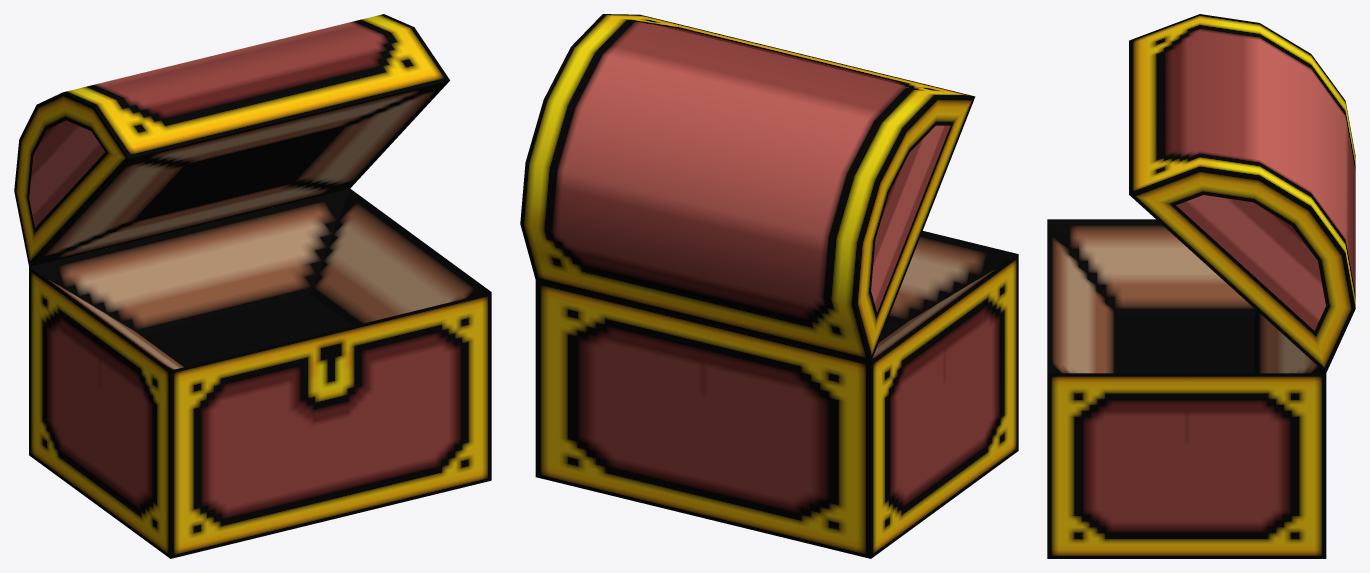
Rendered from deco_chestSmall_open.FBX.
The picture shows the model from 3 angles, left to right: view 1: azimuth 30°, elevation 25°; view 2: azimuth 150°, elevation 25°; view 3: azimuth 270°, elevation 25°; orthographic projection. The views are drawn at different scales.
Visible parts, largest first — view 1: deco_chestSmall_open; view 2: deco_chestSmall_open; view 3: deco_chestSmall_open.
Part boxes in pixels (x1=…): deco_chestSmall_open: x1=14, y1=14, x2=491, y2=558; deco_chestSmall_open: x1=520, y1=14, x2=1018, y2=558; deco_chestSmall_open: x1=1047, y1=14, x2=1355, y2=558.
Size of the model in its own units: 1.55 by 1.83 by 1.31.
Materials: 1 (1 with a texture image).
